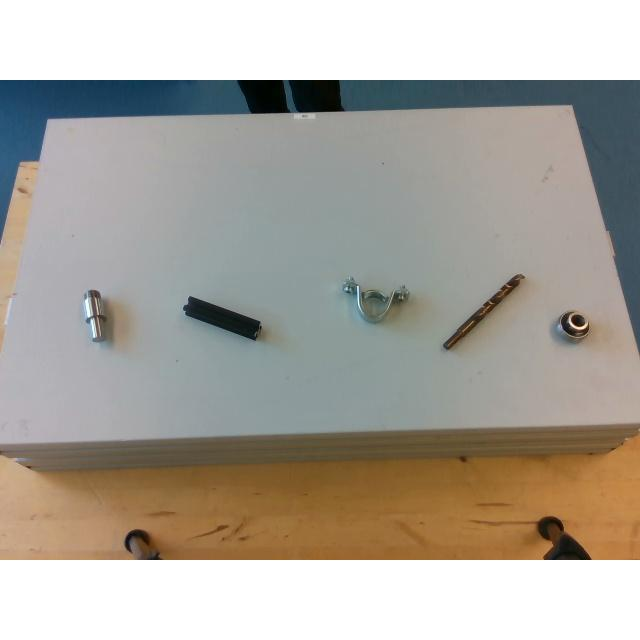Axis2: (82, 289, 106, 339)
Bearing2: (558, 311, 588, 339)
Drill: (442, 272, 522, 348)
F20_20_B: (182, 296, 262, 340)
Housing: (343, 277, 409, 321)
